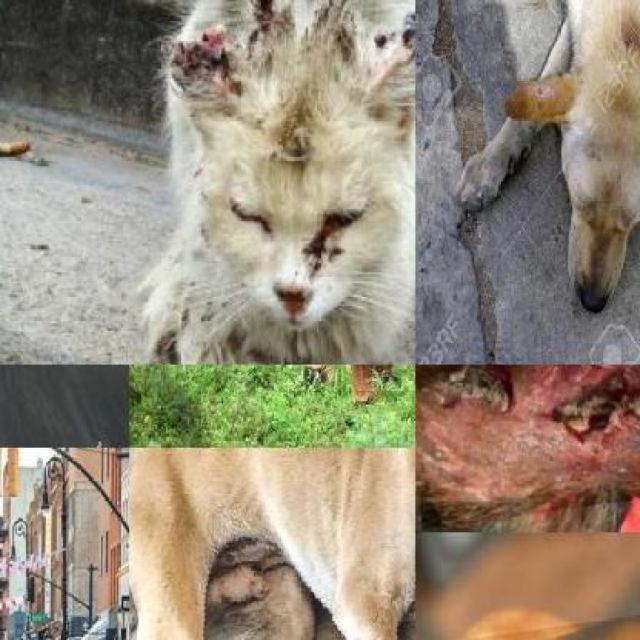buffalo: (0, 364, 129, 448)
cat: (138, 0, 416, 365)
dog: (129, 447, 415, 640), (501, 0, 640, 314)
injured: (415, 364, 640, 528), (164, 13, 250, 164)
